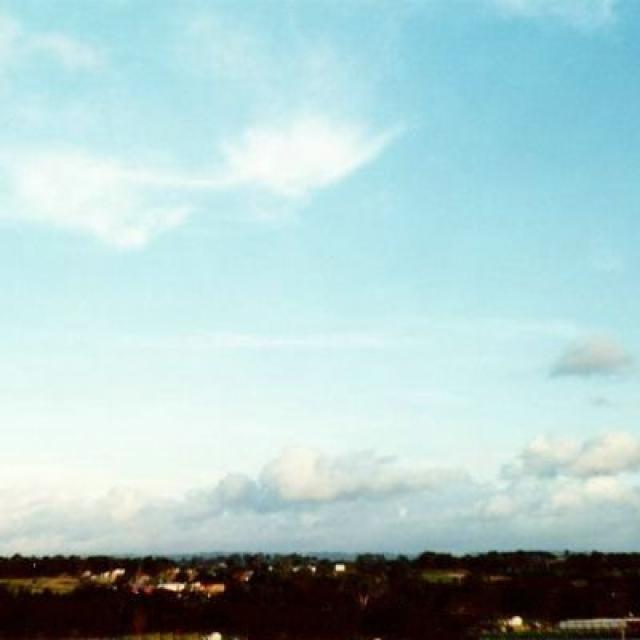Sc: (1, 30, 640, 525)
